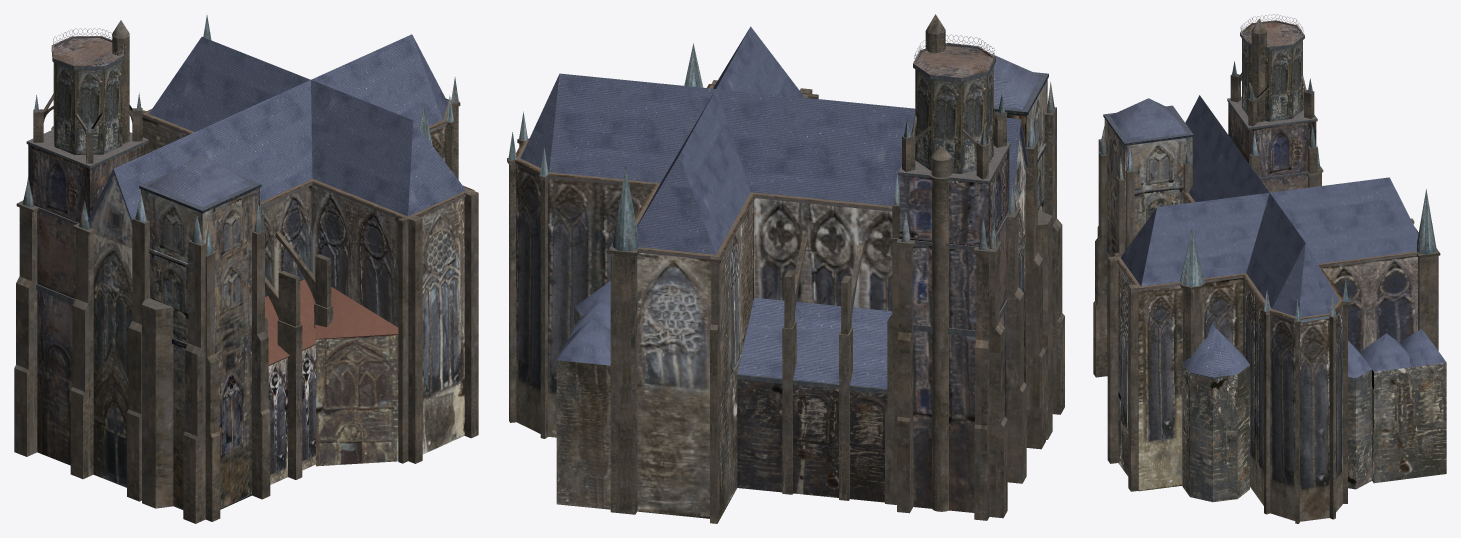
Rendered from egliseCombine.fbx.
3 views of the same model, side by side, from view 1: azimuth 30°, elevation 25°; view 2: azimuth 150°, elevation 25°; view 3: azimuth 270°, elevation 25° (orthographic). The views are drawn at different scales.
Visible parts, largest first — view 1: _EGLISE_SAINT_GENGOULT; view 2: _EGLISE_SAINT_GENGOULT; view 3: _EGLISE_SAINT_GENGOULT.
Boxes of the visible parts, left/top/right/bottom form: _EGLISE_SAINT_GENGOULT: left=14, top=15, right=478, bottom=523; _EGLISE_SAINT_GENGOULT: left=507, top=14, right=1064, bottom=523; _EGLISE_SAINT_GENGOULT: left=1093, top=14, right=1446, bottom=523.
Bounding box in the file's own units: 9.23 × 8.47 × 7.57.
